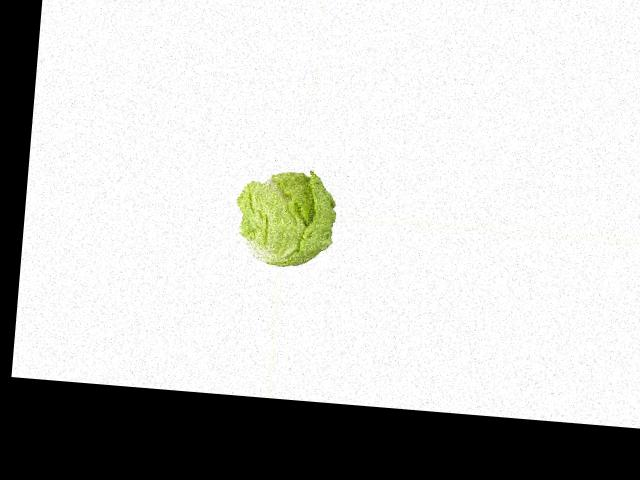lettuce: (235, 167, 338, 273)
